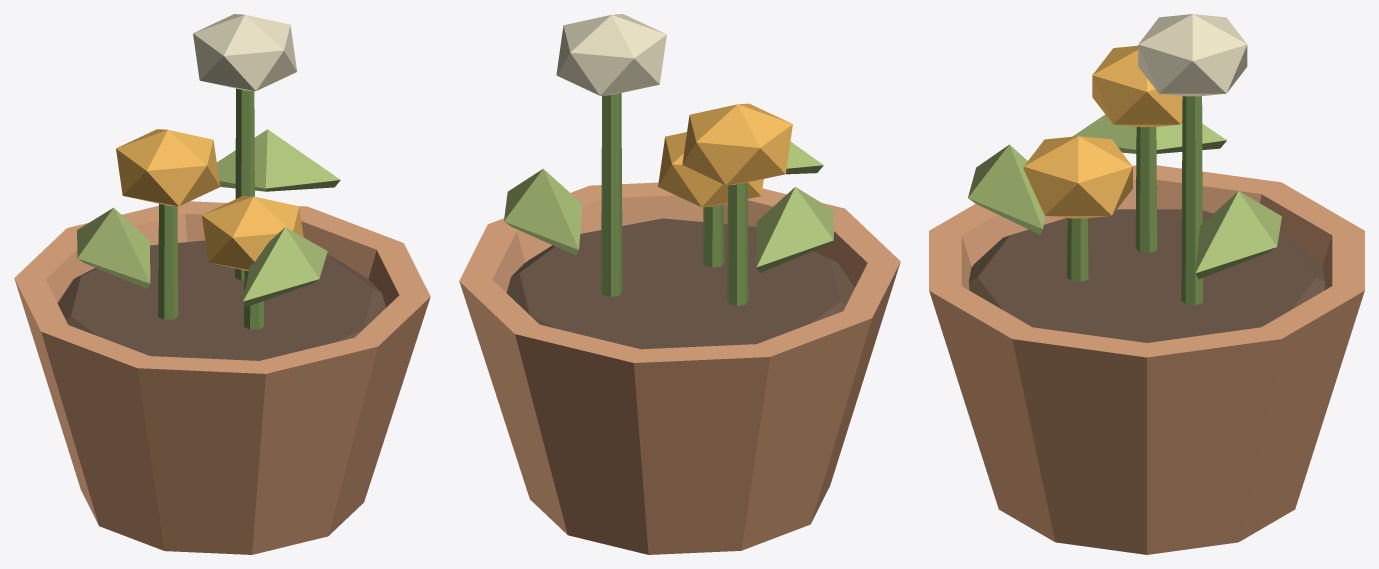
Rendered from CC_FlowerPot.fbx.
3 renders of one model, left to right at view 1: azimuth 30°, elevation 25°; view 2: azimuth 150°, elevation 25°; view 3: azimuth 270°, elevation 25°, orthographic. The views are drawn at different scales.
Visible parts, largest first — view 1: Pot.001, Pot soil, Blossom, Blossom.001, Blossom.002, Pot leaf.002, Pot leaf, Pot leaf.001, Flower stem, Flower stem.001, Flower stem.002; view 2: Pot.001, Pot soil, Blossom.001, Blossom, Pot leaf, Pot leaf.001, Flower stem.001, Blossom.002, Flower stem, Flower stem.002, Pot leaf.002; view 3: Pot.001, Pot soil, Blossom.001, Blossom.002, Pot leaf.001, Blossom, Flower stem.001, Pot leaf.002, Flower stem, Pot leaf, Flower stem.002.
Part boxes in pixels (x1,y1,x2,y2): Pot.001: [14, 201, 430, 554]; Pot soil: [57, 240, 385, 360]; Blossom: [116, 129, 220, 206]; Blossom.001: [193, 14, 297, 91]; Blossom.002: [201, 195, 303, 270]; Pot leaf.002: [243, 227, 327, 306]; Pot leaf: [77, 207, 150, 288]; Pot leaf.001: [216, 129, 340, 191]; Flower stem: [158, 204, 178, 319]; Flower stem.001: [235, 88, 254, 280]; Flower stem.002: [244, 270, 264, 329]; Pot.001: [459, 182, 900, 554]; Pot soil: [506, 218, 854, 349]; Blossom.001: [556, 14, 666, 95]; Blossom: [682, 103, 792, 185]; Pot leaf: [756, 187, 834, 272]; Pot leaf.001: [504, 168, 582, 255]; Flower stem.001: [601, 93, 622, 296]; Blossom.002: [658, 132, 763, 207]; Flower stem: [727, 182, 748, 305]; Flower stem.002: [702, 204, 724, 267]; Pot leaf.002: [786, 141, 823, 174]; Pot.001: [929, 165, 1364, 554]; Pot soil: [968, 209, 1325, 342]; Blossom.001: [1138, 14, 1247, 96]; Blossom.002: [1023, 136, 1132, 218]; Pot leaf.001: [1195, 191, 1281, 278]; Blossom: [1092, 45, 1182, 127]; Flower stem.001: [1181, 96, 1202, 305]; Pot leaf.002: [968, 144, 1044, 234]; Flower stem: [1135, 127, 1157, 252]; Pot leaf: [1072, 114, 1226, 153]; Flower stem.002: [1067, 218, 1088, 281].
Bounding box in the file's own units: 1 × 1.2 × 0.9511.
